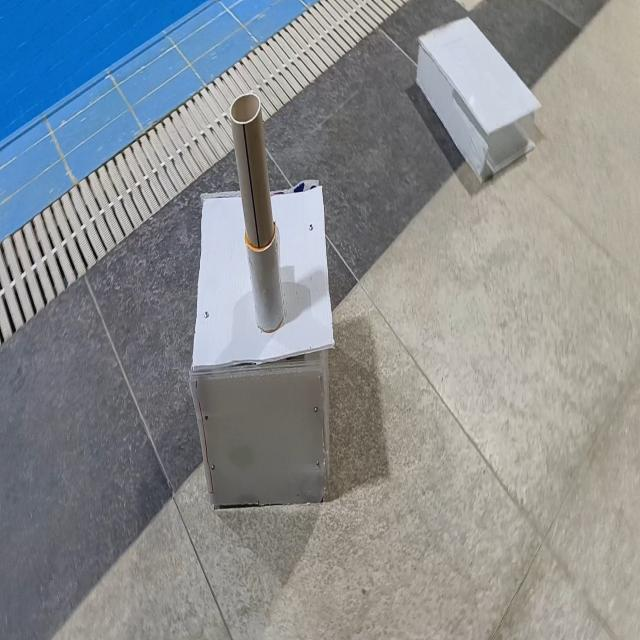Cube: (189, 177, 335, 510)
Cuboid: (415, 14, 542, 184)
